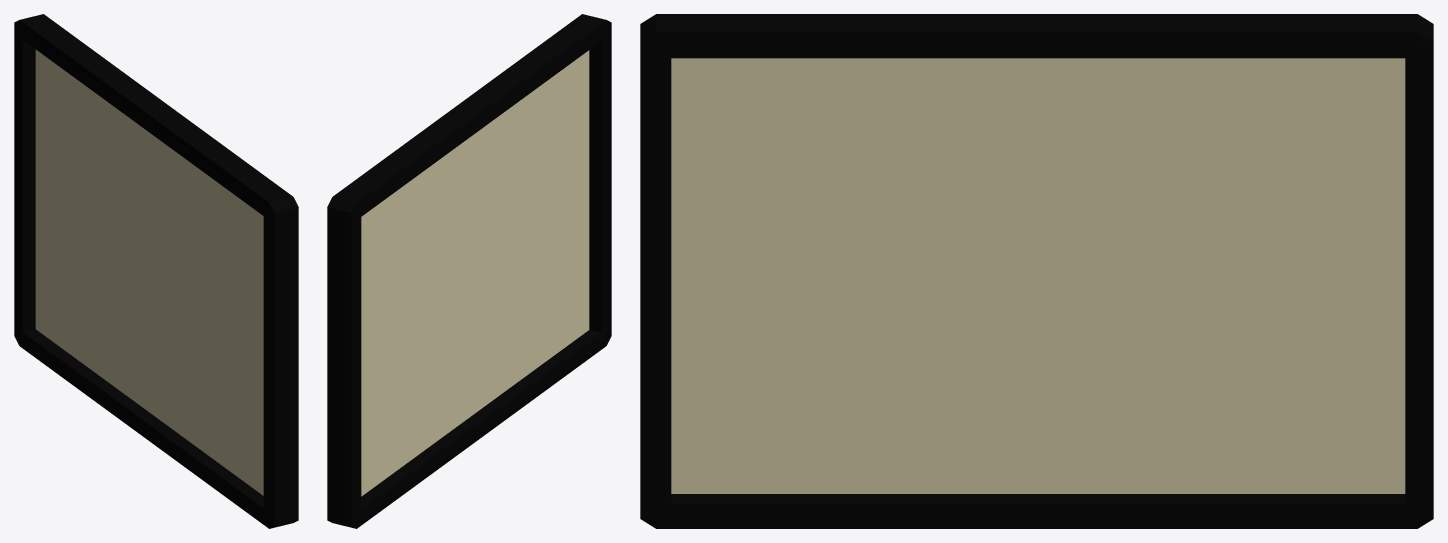
File: Whiteboard.fbx
3 renders of one model, left to right at view 1: azimuth 30°, elevation 25°; view 2: azimuth 150°, elevation 25°; view 3: azimuth 270°, elevation 25°, orthographic. The views are drawn at different scales.
Parts seen in each view (by area): view 1: Plane, Cube; view 2: Plane, Cube; view 3: Plane, Cube.
Boxes of the visible parts, <box> form: Plane: <box>35,49,263,495</box>; Cube: <box>14,14,298,528</box>; Plane: <box>361,50,589,496</box>; Cube: <box>327,14,611,528</box>; Plane: <box>671,58,1405,493</box>; Cube: <box>640,14,1433,528</box>.
Bounding box in the file's own units: 33.74 × 415 × 601.
